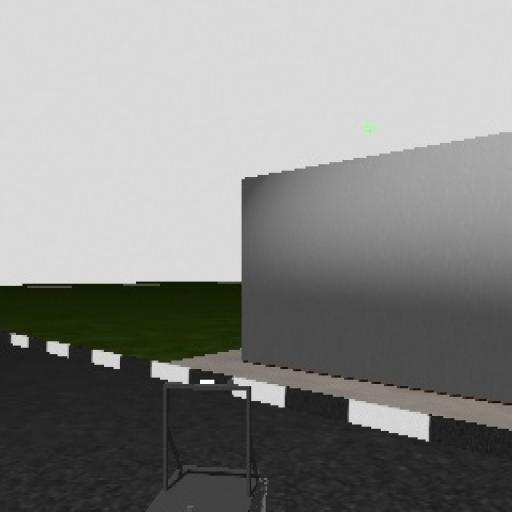huskya200: (144, 365, 275, 512)
